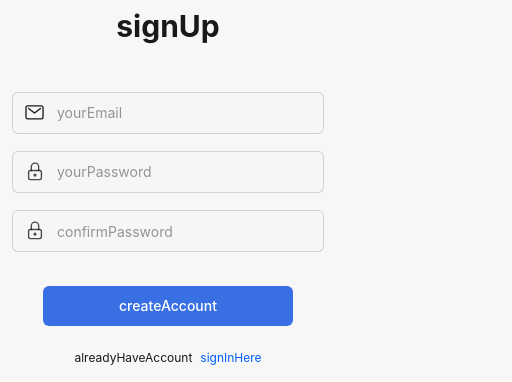
Test: SignUpForm › shows error when passwords do not match
In the field with placeholder "yourEmail": (168, 113) [12,92,324,134], type "a@b.com"
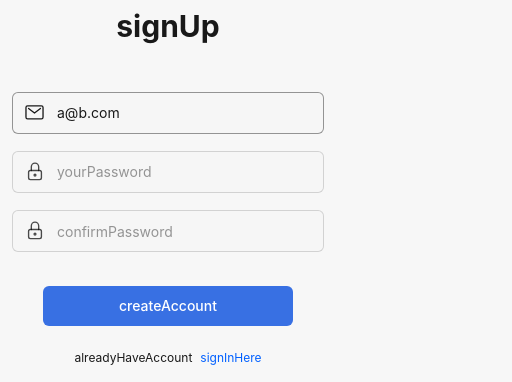
In the password field with placeholder "yourPassword": (168, 172) [12,151,324,193], type "password1234"
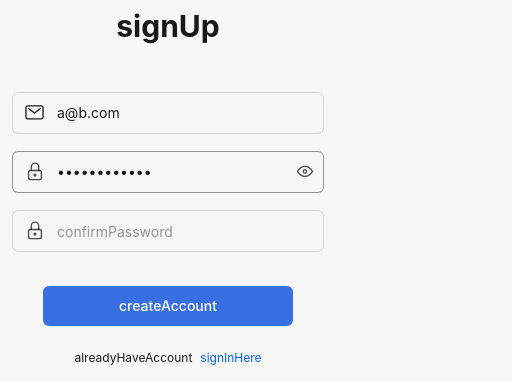
In the password field with placeholder "confirmPassword": (168, 231) [12,210,324,252], type "differentpass"
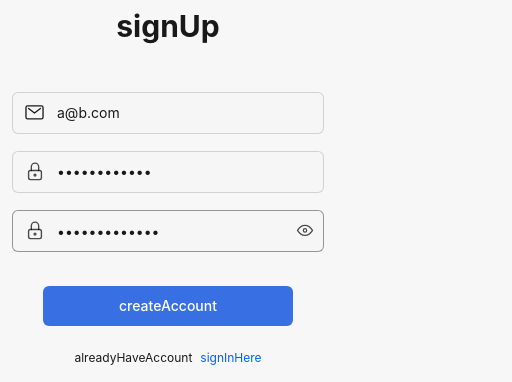
Click the button "createAccount": click(168, 306) [43,286,293,326]
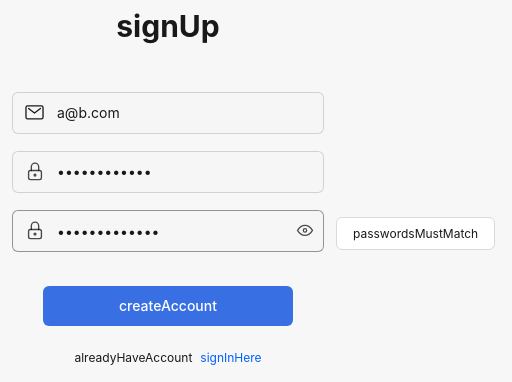
Expected: the text "passwordsMustMatch" is shown, [336,217,495,250]
